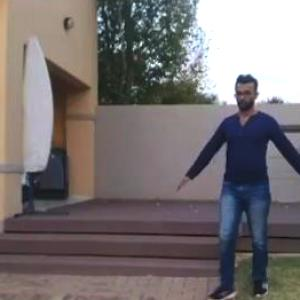land: (184, 75, 300, 299)
